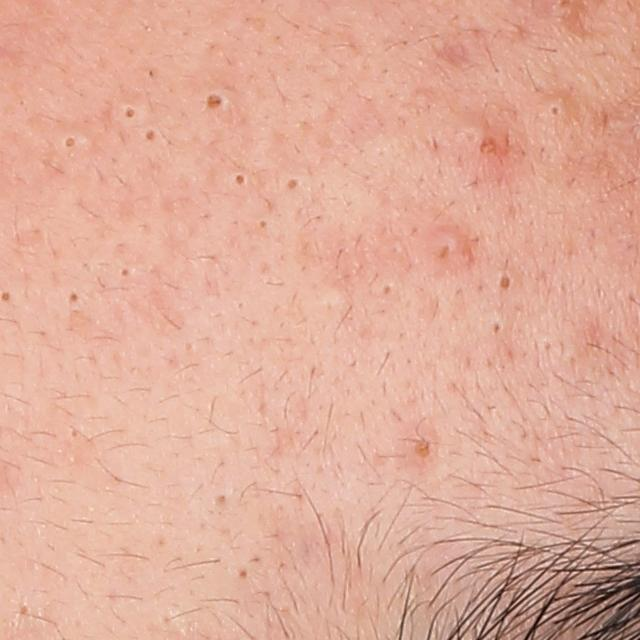atrophic_scar: (426, 38, 480, 73)
comedo: (199, 82, 237, 112), (489, 265, 524, 295), (412, 436, 440, 459), (141, 123, 164, 148), (62, 129, 85, 152), (114, 261, 135, 285), (122, 102, 141, 125), (68, 288, 87, 311), (229, 168, 248, 190), (246, 215, 273, 230), (284, 175, 304, 194), (214, 489, 232, 509), (379, 279, 398, 296), (16, 600, 33, 618), (488, 319, 506, 336), (237, 564, 254, 581)
